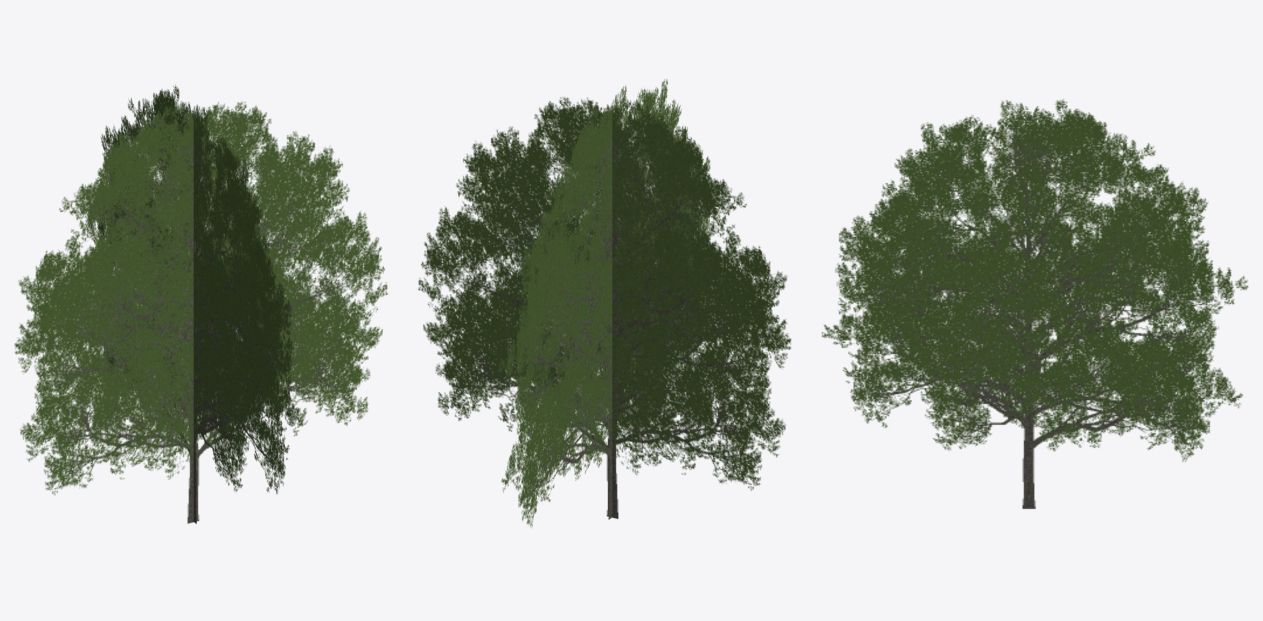
Rendered from QuercusRubra.glb.
The picture shows the model from 3 angles, left to right: view 1: azimuth 30°, elevation 25°; view 2: azimuth 150°, elevation 25°; view 3: azimuth 270°, elevation 25°; orthographic projection. The views are drawn at different scales.
Parts seen in each view (by area): view 1: mesh__mat_billboard_9; view 2: mesh__mat_billboard_9; view 3: mesh__mat_billboard_9.
Part boxes in pixels (x1,y1,x2,y2): mesh__mat_billboard_9: (14,85,387,523); mesh__mat_billboard_9: (418,79,791,526); mesh__mat_billboard_9: (822,99,1248,508).
Size of the model in its own units: 18.85 by 20.69 by 19.33.
Materials: 1 (1 with a texture image).
